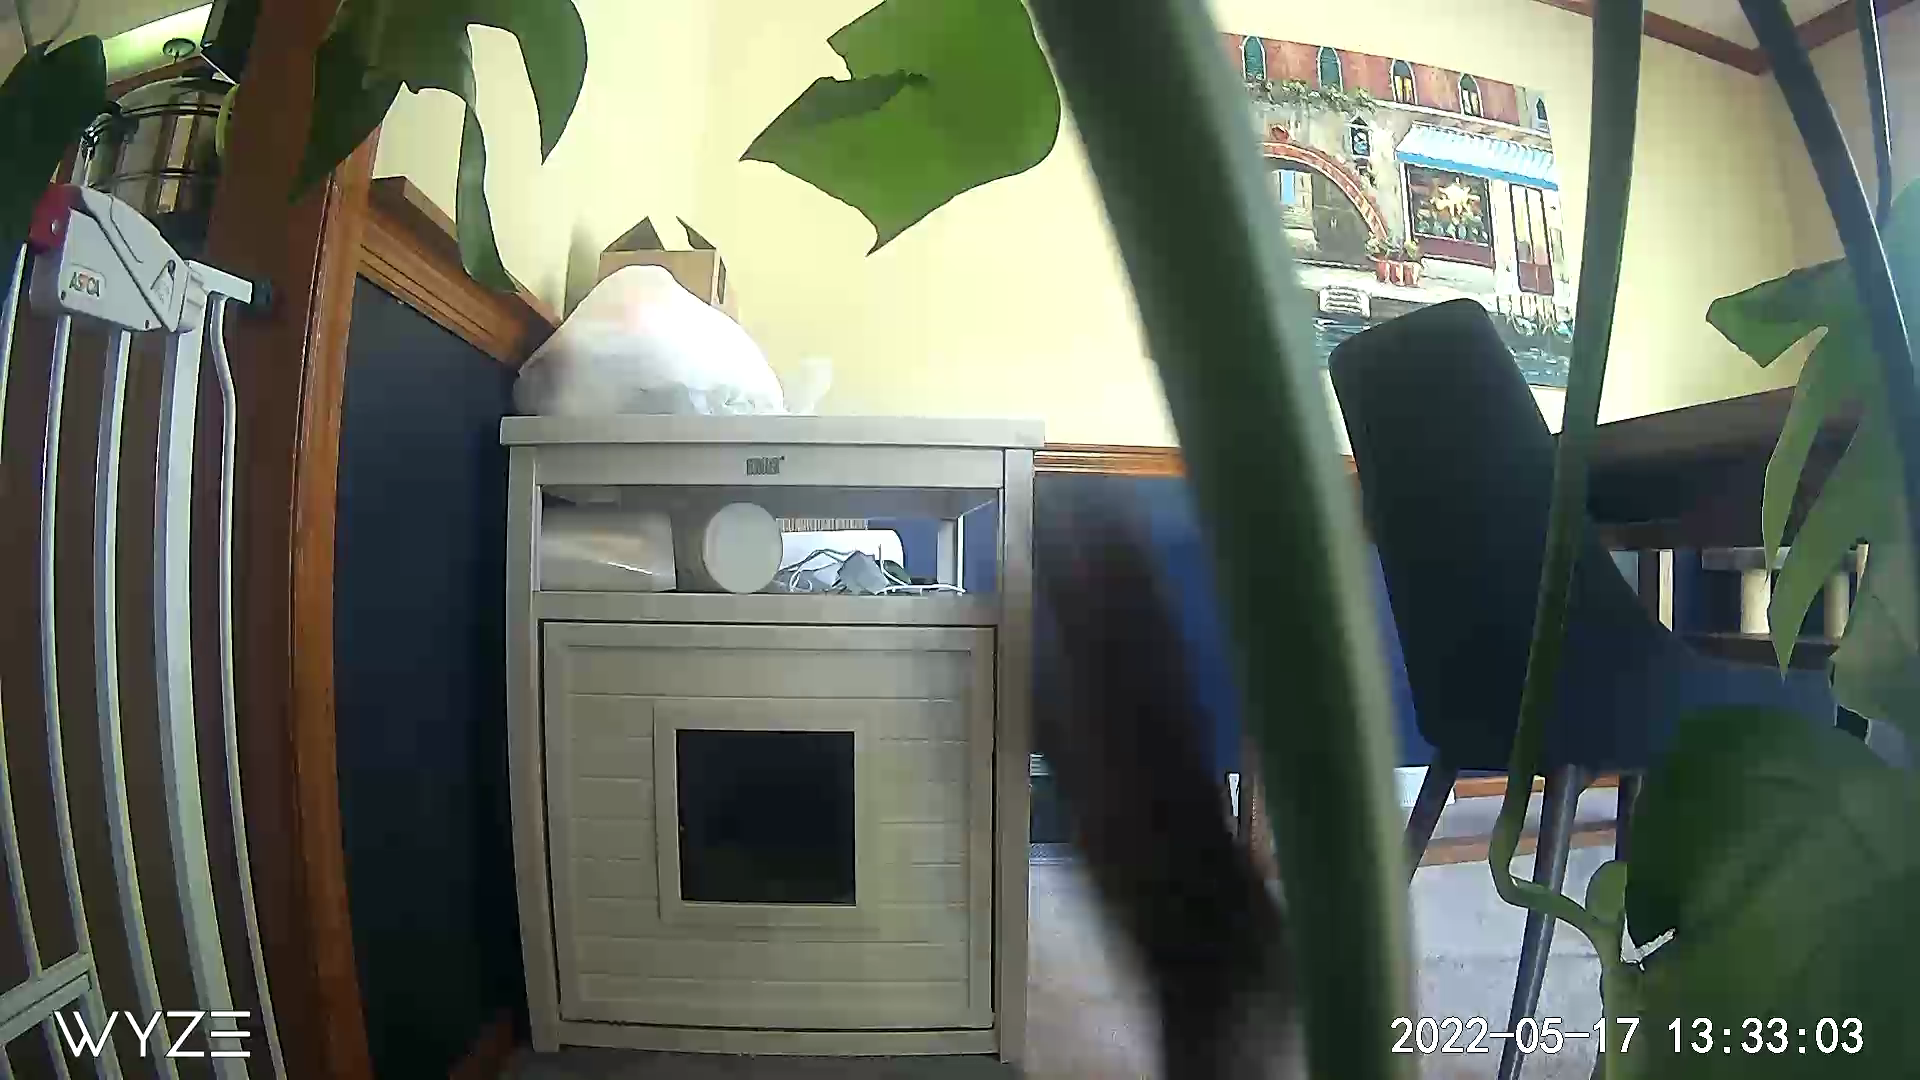sparky: (953, 498, 1300, 1064)
